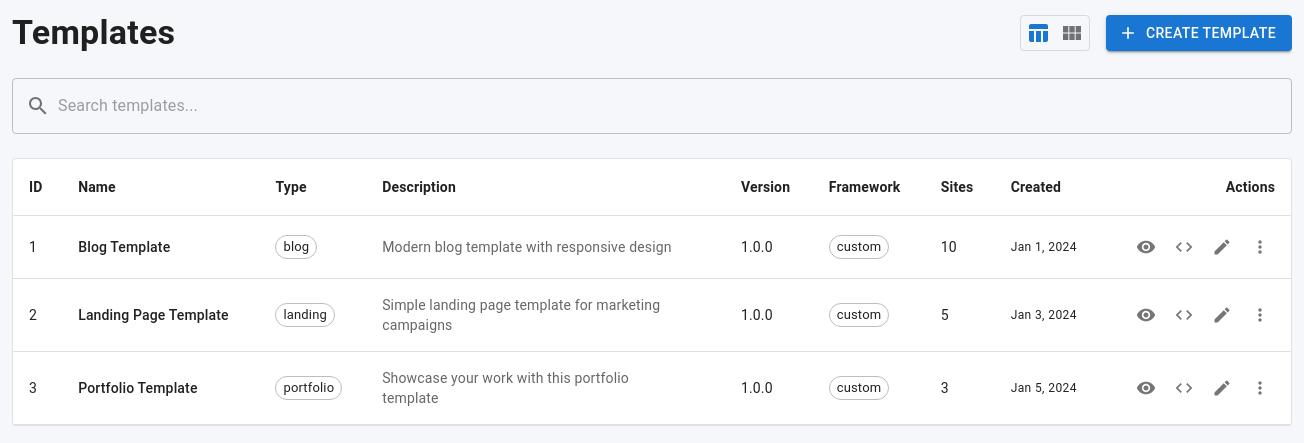
Test: TemplatesPage › Search Functionality › should filter templates by description
Check: the text "Blog Template" is shown, box [78, 239, 170, 255]
Type "marketing" into the field with placeholder "Search templates..." at [675, 106], box [58, 78, 1292, 134]
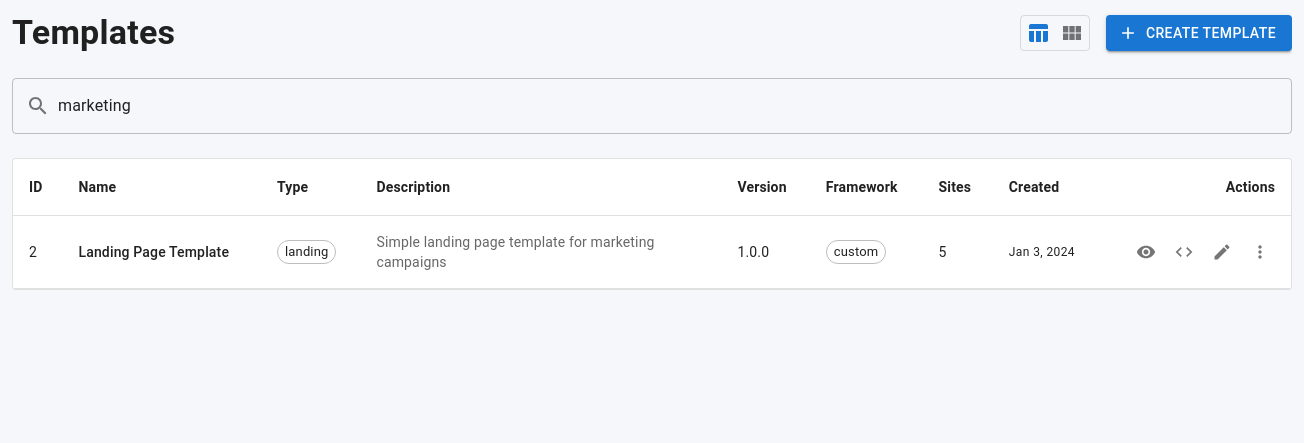
Check: the text "Landing Page Template" is shown, box [78, 242, 245, 262]
Check: the text "Blog Template" is gone
